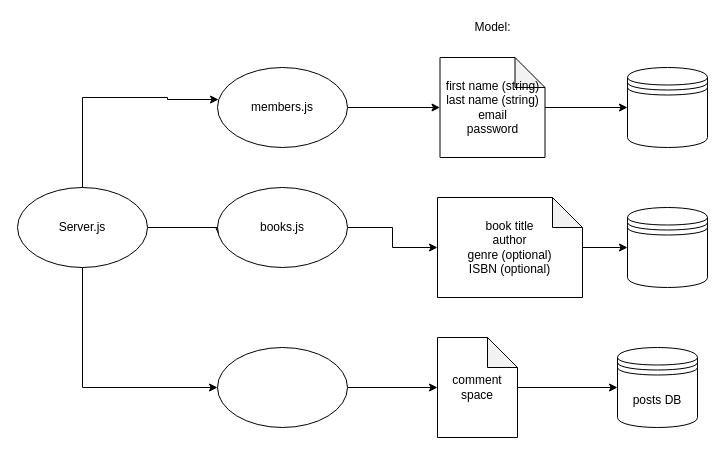
Image size: 725x455. Some labels were removed from this diagram. Each missing label, with the centre of its shape:
books DB: the point at 667,247
member DB: the point at 667,107
posts.js: the point at 282,387
